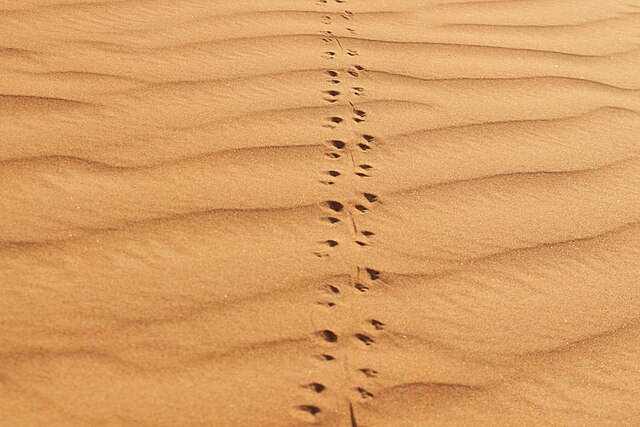animal_footprint: (363, 257, 388, 283), (356, 192, 385, 213), (301, 401, 323, 427), (354, 385, 377, 408), (317, 327, 343, 347), (316, 198, 347, 213), (328, 49, 360, 63), (320, 284, 349, 297), (327, 138, 353, 152), (357, 164, 379, 180), (315, 301, 344, 313), (325, 116, 348, 131), (362, 366, 381, 384), (361, 133, 376, 154), (319, 238, 344, 250), (315, 216, 348, 225), (321, 91, 341, 105), (367, 320, 392, 330), (360, 226, 382, 237), (351, 87, 373, 98), (348, 66, 370, 77), (352, 109, 368, 124), (357, 332, 375, 345), (323, 167, 344, 178), (314, 355, 337, 365), (308, 383, 326, 395), (327, 70, 342, 81), (356, 241, 367, 252)
